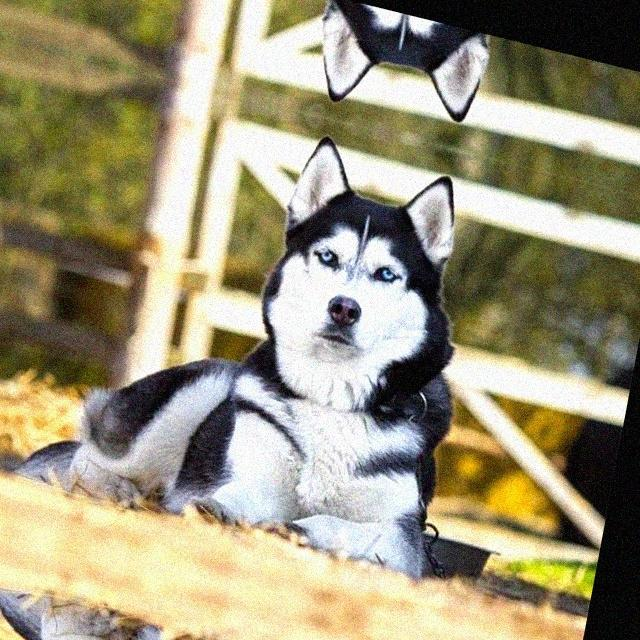dog: (94, 126, 540, 614), (185, 0, 570, 127), (67, 579, 456, 640)
